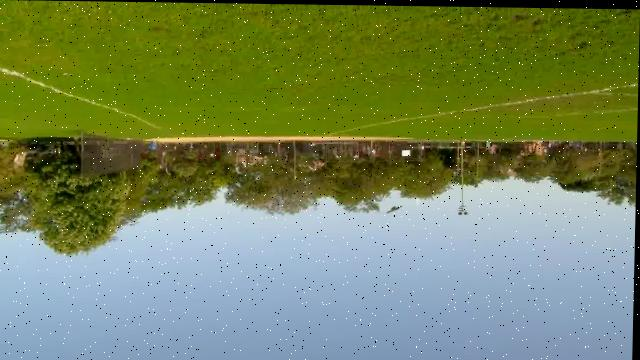drone: (387, 198, 408, 219)
